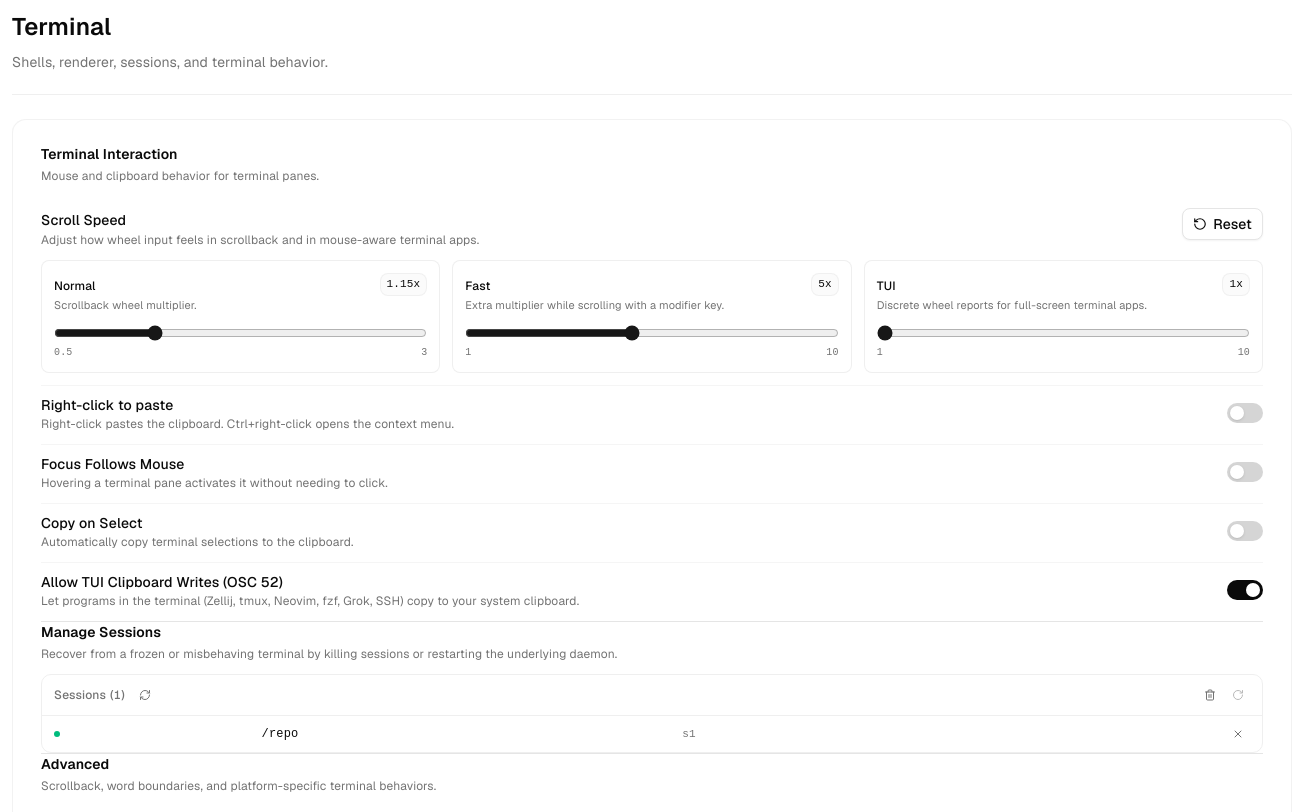
Test case: terminal manage sessions › refresh re-lists after sessions change
Expected: the text "(1)" is shown, 110,687 -> 125,703
Click the button named "Refresh" at (145, 695), box 133,683 -> 157,707
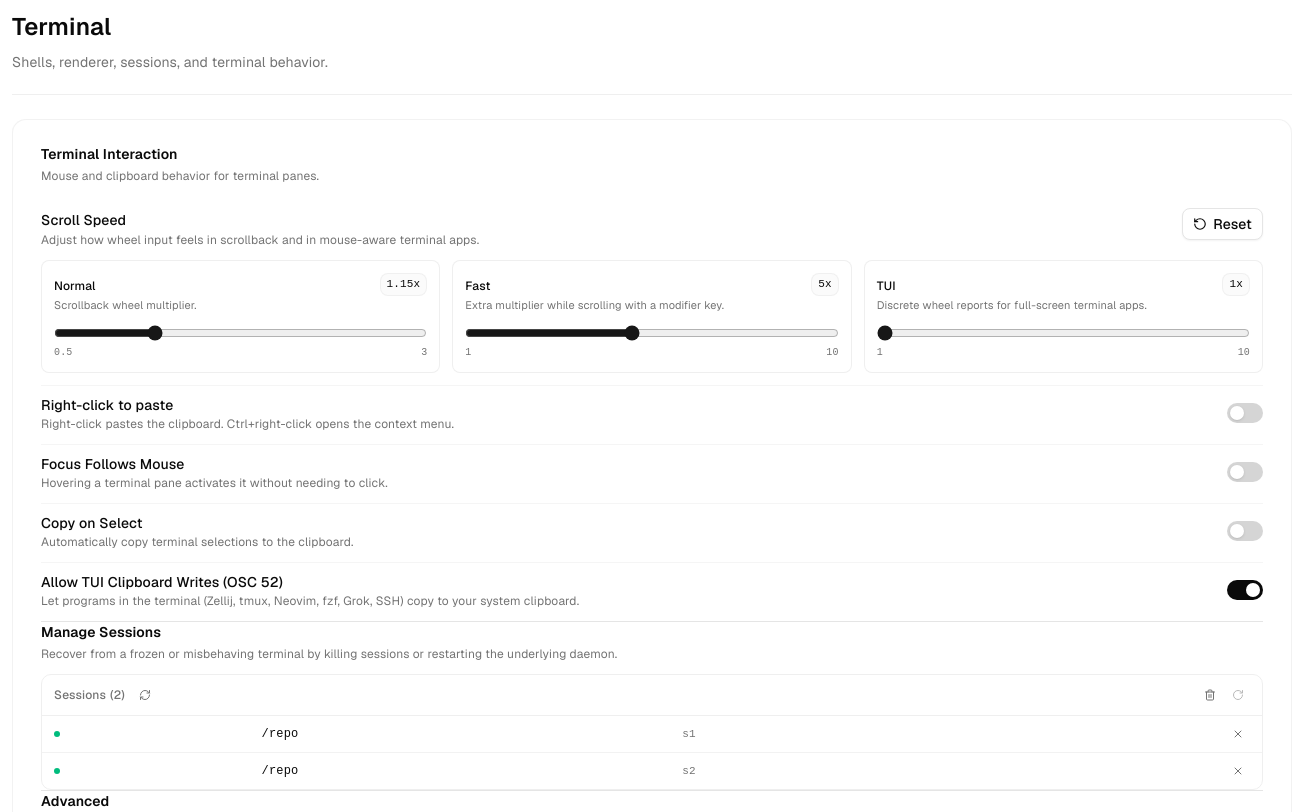
Now the text "(2)" is shown, box 110,687 -> 125,703
